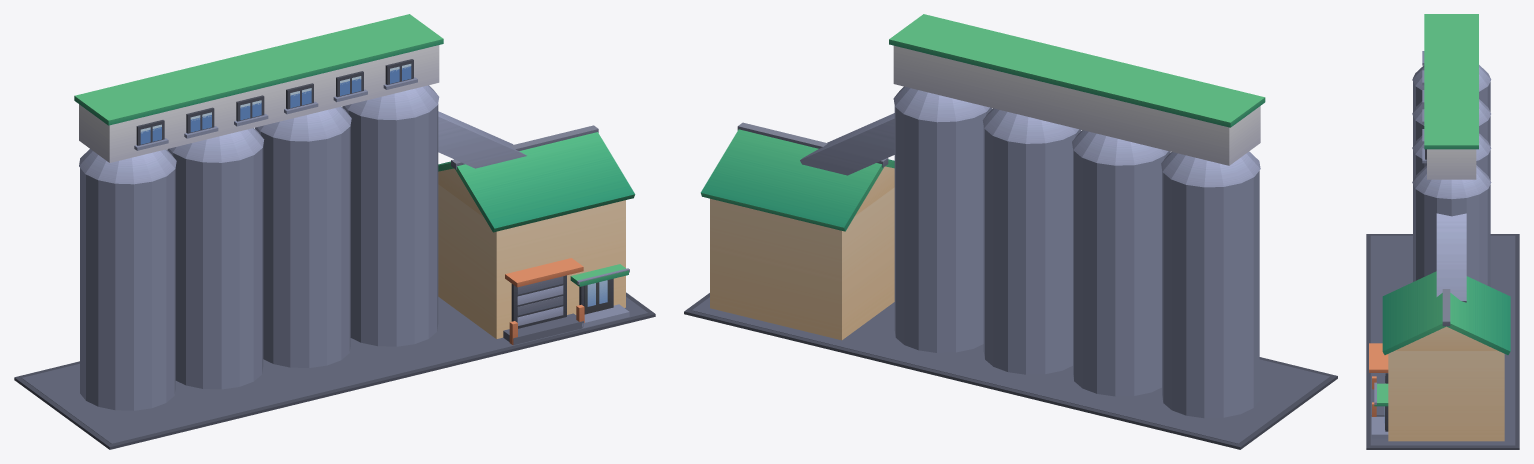
File: ind_silo_elevator_3x1.glb
3 views of the same model, side by side, from view 1: azimuth 30°, elevation 25°; view 2: azimuth 150°, elevation 25°; view 3: azimuth 270°, elevation 25° (orthographic). The views are drawn at different scales.
Parts seen in each view (by area): view 1: ind_silo_elevator_3x1; view 2: ind_silo_elevator_3x1; view 3: ind_silo_elevator_3x1.
Part boxes in pixels (box(x1,y1,x2,y2)): ind_silo_elevator_3x1: box(14, 14, 655, 449); ind_silo_elevator_3x1: box(684, 14, 1337, 449); ind_silo_elevator_3x1: box(1366, 14, 1519, 449).
Size of the model in its own units: 5.74 by 2.95 by 1.74.
Materials: 1 (1 with a texture image).
